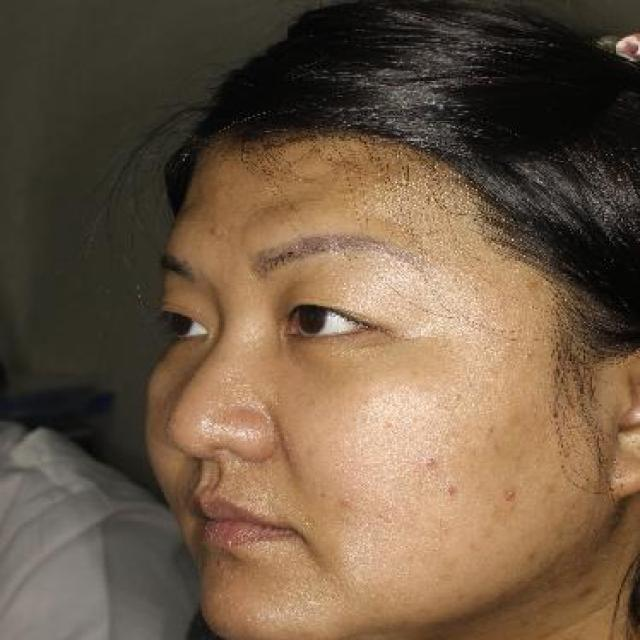dark spot: (493, 477, 527, 506), (436, 479, 469, 503)
papules: (419, 451, 442, 472)
whiteheads: (376, 508, 398, 526)
